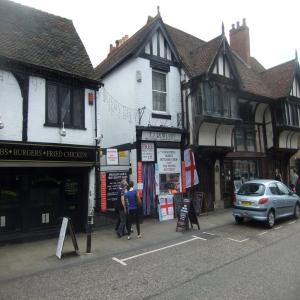Vehicle-registration-plate: (243, 202, 253, 208)
